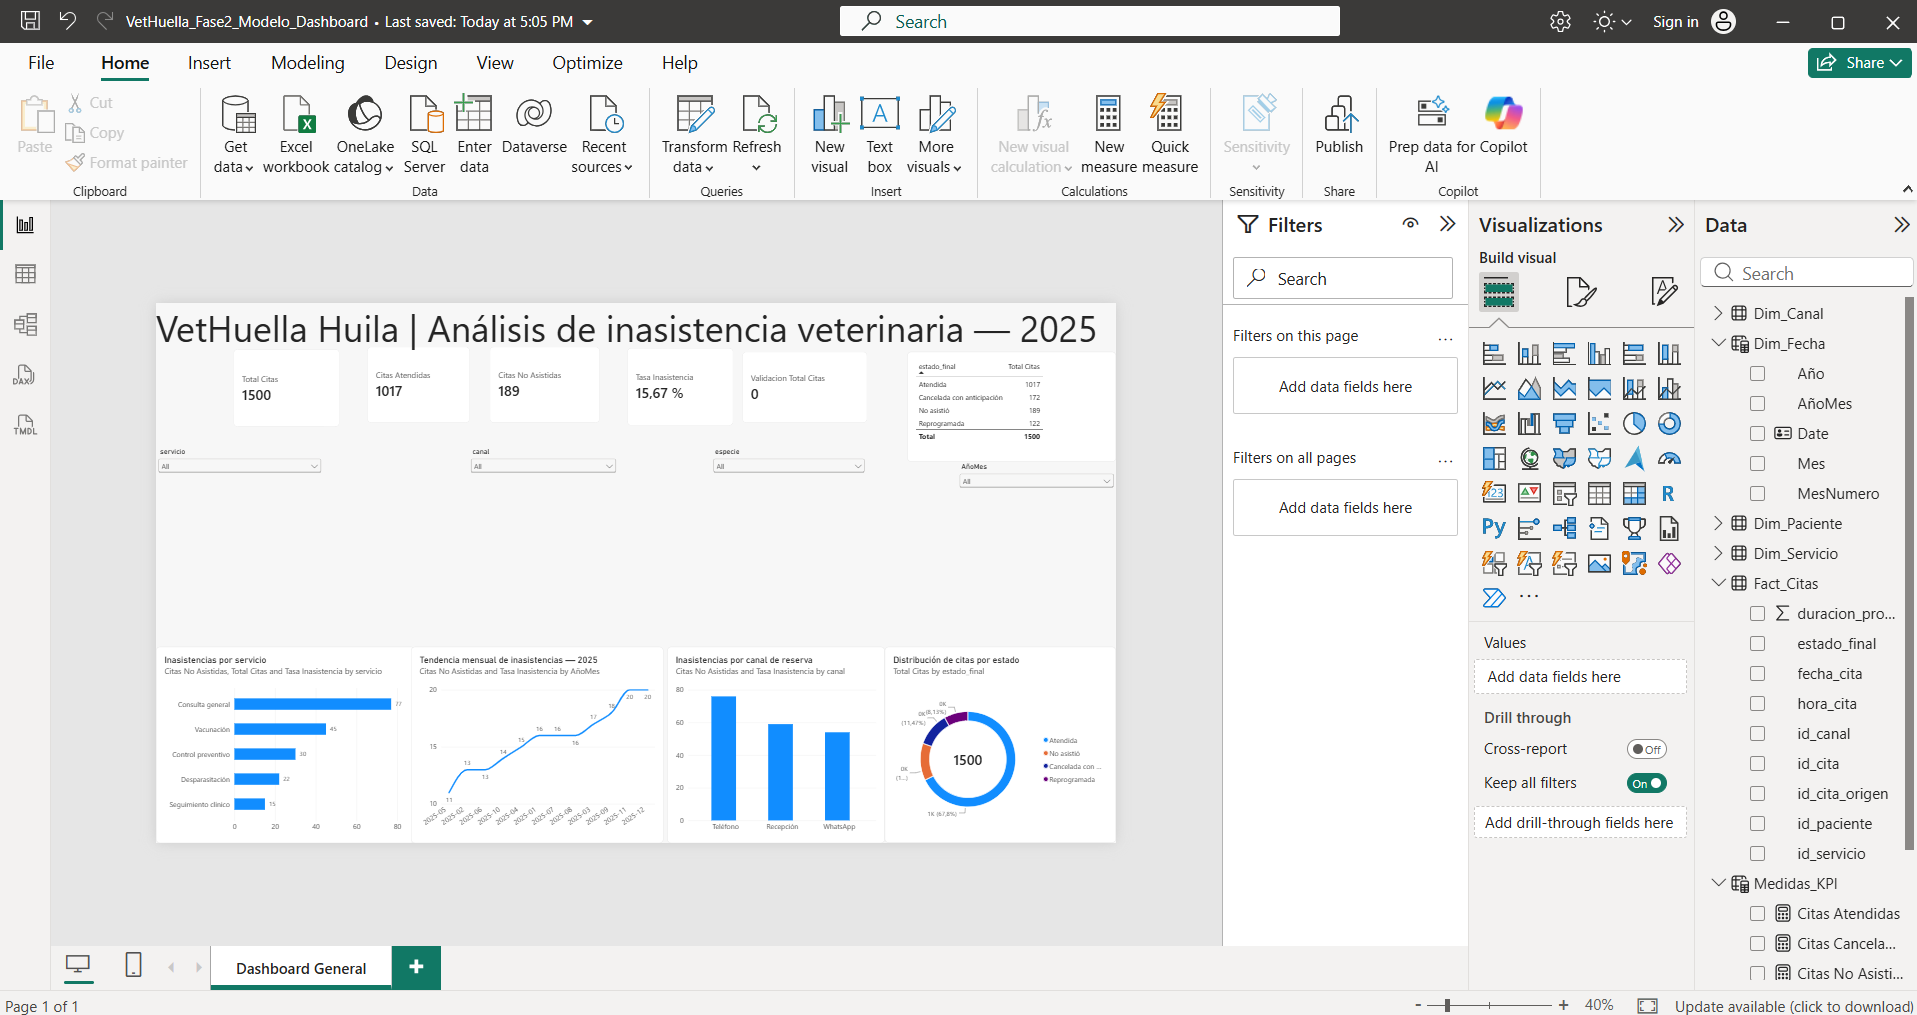

Layout of this report page (visuals, bound fields, positions):
{"tool":"powerbi","page":{"name":"Dashboard General","canvas":[1920,1080],"ordinal":0},"visuals":[{"type":"cardVisual","fields":{"Data":["Medidas_KPI.Total Citas"]},"box":[155,92.5,212.5,155],"z":0},{"type":"cardVisual","fields":{"Data":["Medidas_KPI.Citas Atendidas"]},"box":[422.5,87.5,205,152.5],"z":1000},{"type":"cardVisual","fields":{"Data":["Medidas_KPI.Citas No Asistidas"]},"box":[667.5,87.5,220,152.5],"z":2000},{"type":"cardVisual","fields":{"Data":["Medidas_KPI.Tasa Inasistencia"]},"box":[942.5,90,212.5,155],"z":3000},{"type":"cardVisual","fields":{"Data":["Medidas_KPI.Validacion Total Citas"]},"box":[1172.5,97.5,250,142.5],"z":4000},{"type":"tableEx","fields":{"Values":["Fact_Citas.estado_final","Medidas_KPI.Total Citas"]},"box":[1502.5,97.5,417.5,220],"z":5000},{"type":"clusteredBarChart","title":"Inasistencias por servicio","fields":{"Category":["Dim_Servicio.servicio"],"Y":["Medidas_KPI.Citas No Asistidas"]},"box":[0,687.5,517.5,392.5],"z":6000},{"type":"lineChart","title":"Tendencia mensual de inasistencias — 2025","fields":{"Category":["Dim_Fecha.AñoMes"],"Y":["Medidas_KPI.Citas No Asistidas"]},"box":[510,687,505,392.5],"z":7000},{"type":"clusteredColumnChart","title":"Inasistencias por canal de reserva","fields":{"Category":["Dim_Canal.canal"],"Y":["Medidas_KPI.Citas No Asistidas"]},"box":[1022.5,687.5,435,392.5],"z":8000},{"type":"donutChart","title":"Distribución de citas por estado","fields":{"Category":["Fact_Citas.estado_final"],"Y":["Medidas_KPI.Total Citas"]},"box":[1458,688,462,392],"z":9000},{"type":"slicer","fields":{"Values":["Dim_Servicio.servicio"]},"box":[0,287.5,335,322.5],"z":10000},{"type":"slicer","fields":{"Values":["Dim_Canal.canal"]},"box":[625,287.5,300,322.5],"z":11000},{"type":"slicer","fields":{"Values":["Dim_Paciente.especie"]},"box":[1110,287.5,312.5,322.5],"z":12000},{"type":"slicer","fields":{"Values":["Dim_Fecha.AñoMes"]},"box":[1602.5,317.5,317.5,322.5],"z":13000},{"type":"textbox","box":[0,0,1920,97.5],"z":14000}]}

Visuals, with their boxes on the page's 1920x1080 design canvas (x1, y1, x2, y2). These are canvas units, not pixel positions in the 1917x1015 screenshot, which may show the page scaled, cropped or inside an application window:
cardVisual - Medidas_KPI.Total Citas: rect(155, 92, 368, 248)
cardVisual - Medidas_KPI.Citas Atendidas: rect(422, 88, 628, 240)
cardVisual - Medidas_KPI.Citas No Asistidas: rect(668, 88, 888, 240)
cardVisual - Medidas_KPI.Tasa Inasistencia: rect(942, 90, 1155, 245)
cardVisual - Medidas_KPI.Validacion Total Citas: rect(1172, 98, 1422, 240)
tableEx - Fact_Citas.estado_final x Medidas_KPI.Total Citas: rect(1502, 98, 1920, 318)
"Inasistencias por servicio" clusteredBarChart: rect(0, 688, 518, 1080)
"Tendencia mensual de inasistencias — 2025" lineChart: rect(510, 687, 1015, 1080)
"Inasistencias por canal de reserva" clusteredColumnChart: rect(1022, 688, 1458, 1080)
"Distribución de citas por estado" donutChart: rect(1458, 688, 1920, 1080)
slicer - Dim_Servicio.servicio: rect(0, 288, 335, 610)
slicer - Dim_Canal.canal: rect(625, 288, 925, 610)
slicer - Dim_Paciente.especie: rect(1110, 288, 1422, 610)
slicer - Dim_Fecha.AñoMes: rect(1602, 318, 1920, 640)
textbox: rect(0, 0, 1920, 98)
